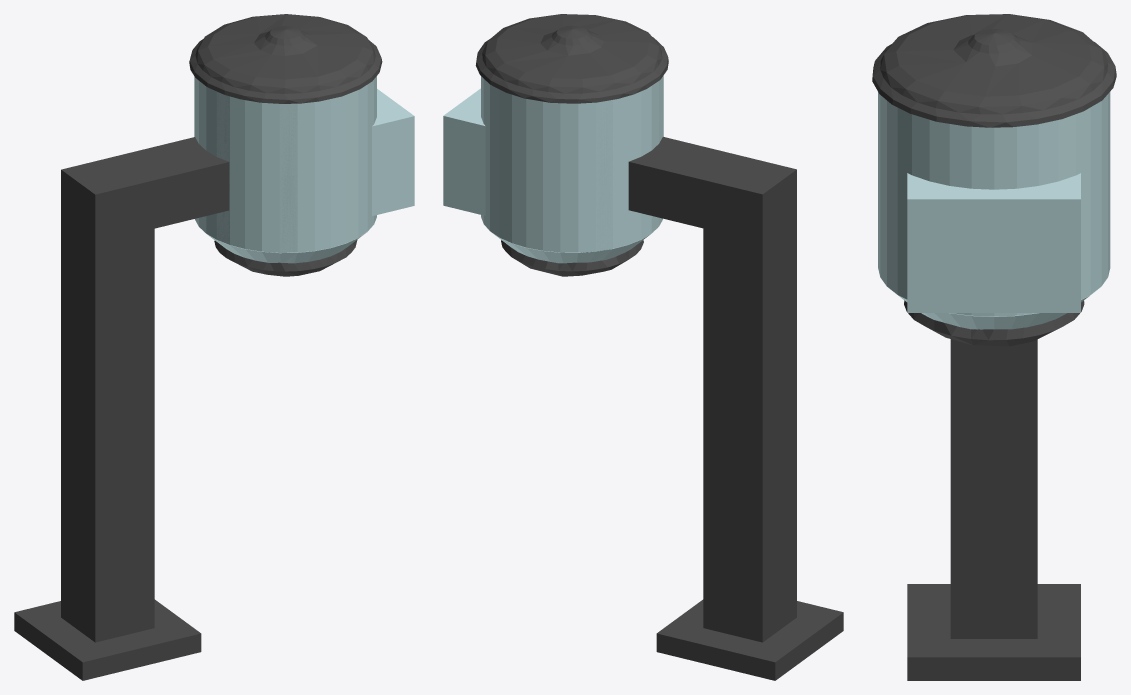
The model's file is dispensador.glb.
3 views of the same model, side by side, from view 1: azimuth 30°, elevation 25°; view 2: azimuth 150°, elevation 25°; view 3: azimuth 270°, elevation 25° (orthographic). The views are drawn at different scales.
Visible parts, largest first — view 1: Dispensador_queso.001, Cube.001; view 2: Dispensador_queso.001, Cube.001; view 3: Dispensador_queso.001, Cube.001.
Boxes of the visible parts, left/top/right/bottom form: Dispensador_queso.001: left=14, top=14, right=382, bottom=680; Cube.001: left=372, top=89, right=414, bottom=215; Dispensador_queso.001: left=475, top=14, right=843, bottom=680; Cube.001: left=443, top=88, right=485, bottom=215; Dispensador_queso.001: left=872, top=14, right=1116, bottom=680; Cube.001: left=907, top=173, right=1080, bottom=312.
Bounding box in the file's own units: 5.6 × 9.16 × 2.82.
